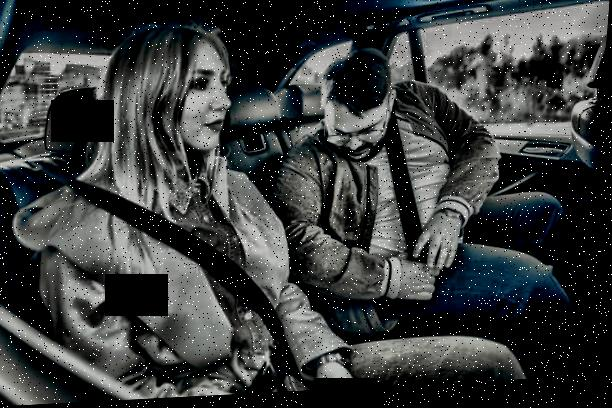seatbelt: (0, 124, 314, 406), (389, 97, 451, 289)
